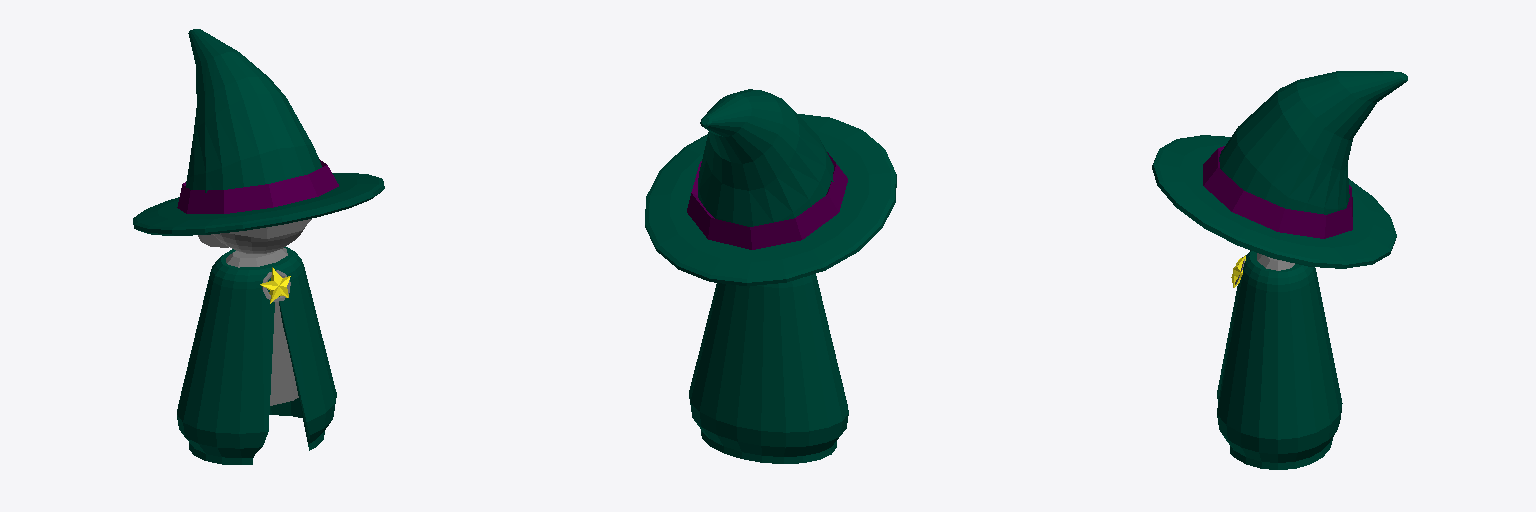
Rendered from player_body.obj.
3 renders of one model, left to right at view 1: azimuth 30°, elevation 25°; view 2: azimuth 150°, elevation 25°; view 3: azimuth 270°, elevation 25°, orthographic.
Visible parts, largest first — view 1: player_body:pCone16, player_body:pCone17, player_body:pTorus5, player_body:pTorus6, player_body:body, player_body:head, player_body:pSphere4; view 2: player_body:pCone16, player_body:pTorus5, player_body:pCone17, player_body:pTorus6; view 3: player_body:pCone16, player_body:pCone17, player_body:pTorus5, player_body:pTorus6.
Boxes of the visible parts, <box> form: player_body:pCone16: <box>177,247,336,464</box>; player_body:pCone17: <box>186,29,321,192</box>; player_body:pTorus5: <box>133,173,384,235</box>; player_body:pTorus6: <box>177,159,338,213</box>; player_body:body: <box>226,248,298,405</box>; player_body:head: <box>213,228,304,253</box>; player_body:pSphere4: <box>198,219,311,247</box>; player_body:pCone16: <box>689,274,848,463</box>; player_body:pTorus5: <box>645,114,896,285</box>; player_body:pCone17: <box>698,89,833,226</box>; player_body:pTorus6: <box>687,152,847,249</box>; player_body:pCone16: <box>1217,250,1342,469</box>; player_body:pCone17: <box>1219,71,1407,214</box>; player_body:pTorus5: <box>1152,135,1396,268</box>; player_body:pTorus6: <box>1203,146,1352,238</box>.
Bounding box in the file's own units: 1.75 × 2.77 × 1.75.